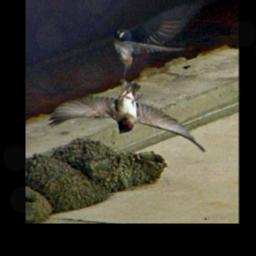Swallow: (44, 77, 208, 154)
